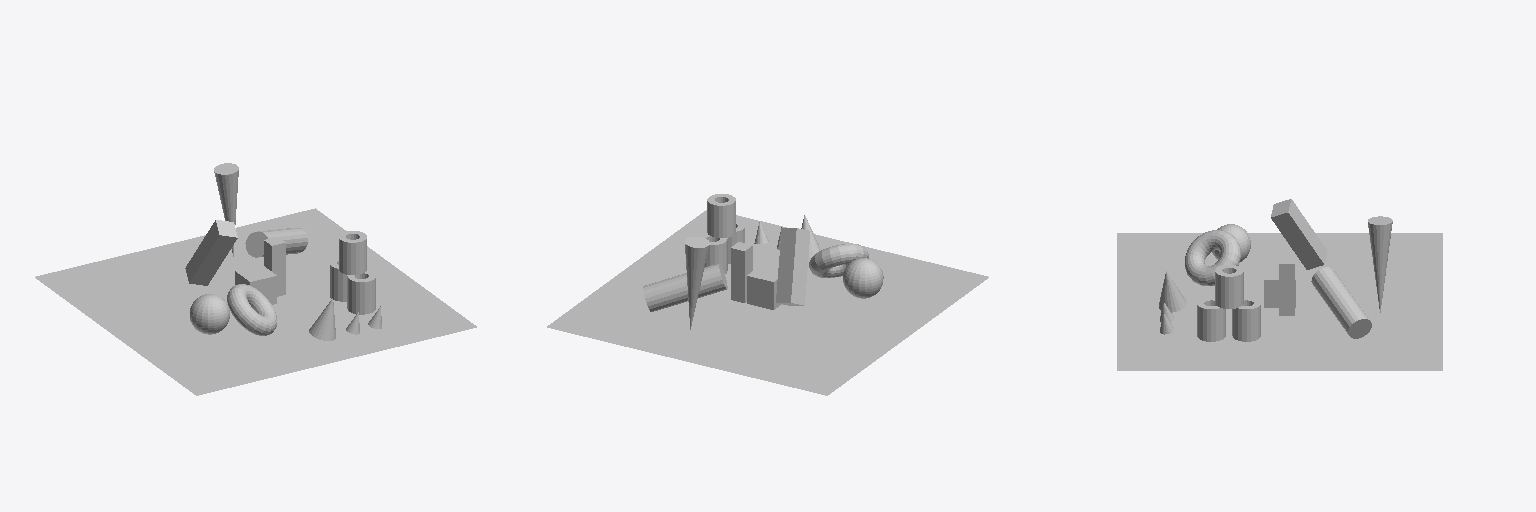
File: Shadow_Test.obj
The picture shows the model from 3 angles: view 1: azimuth 30°, elevation 25°; view 2: azimuth 150°, elevation 25°; view 3: azimuth 270°, elevation 25°; orthographic projection.
Parts seen in each view (by area): view 1: pPlane1, pCube1, pTorus1, pSphere1, pPipe3, pPipe1, pCylinder1, pCone1, pCube2, pCube3, pCone2, pPipe2; view 2: pPlane1, pCube1, pCylinder1, pTorus1, pSphere1, pCone1, pPipe3, pCube2, pCube3, pPipe2; view 3: pPlane1, pCube1, pCylinder1, pTorus1, pCone1, pPipe3, pPipe1, pPipe2, pCube3, pCube2, pCone2, pSphere1.
Part boxes in pixels (x1,y1,x2,y2): pPlane1: (35,208,476,395); pCube1: (185,220,237,285); pTorus1: (227,284,276,335); pSphere1: (190,294,229,334); pPipe3: (339,231,366,274); pPipe1: (347,271,375,314); pCylinder1: (245,228,307,257); pCone1: (214,163,238,256); pCube2: (235,264,276,304); pCube3: (264,237,285,296); pCone2: (309,298,335,340); pPipe2: (330,258,346,301); pPlane1: (547,210,988,395); pCube1: (776,228,809,305); pCylinder1: (643,263,727,311); pTorus1: (809,244,868,277); pSphere1: (843,258,883,298); pCone1: (685,237,709,329); pPipe3: (707,194,735,237); pCube2: (747,264,781,309); pCube3: (731,242,752,302); pPipe2: (700,233,727,273); pPlane1: (1117,233,1442,370); pCube1: (1271,199,1327,269); pCylinder1: (1311,267,1371,338); pTorus1: (1185,230,1240,285); pCone1: (1368,216,1392,312); pPipe3: (1215,265,1243,308); pPipe1: (1197,297,1225,341); pPipe2: (1232,297,1260,341); pCube3: (1279,257,1294,315); pCube2: (1264,267,1295,307); pCone2: (1159,271,1186,312); pSphere1: (1212,224,1250,261).
Size of the model in its own units: 15.97 by 5.01 by 15.97.